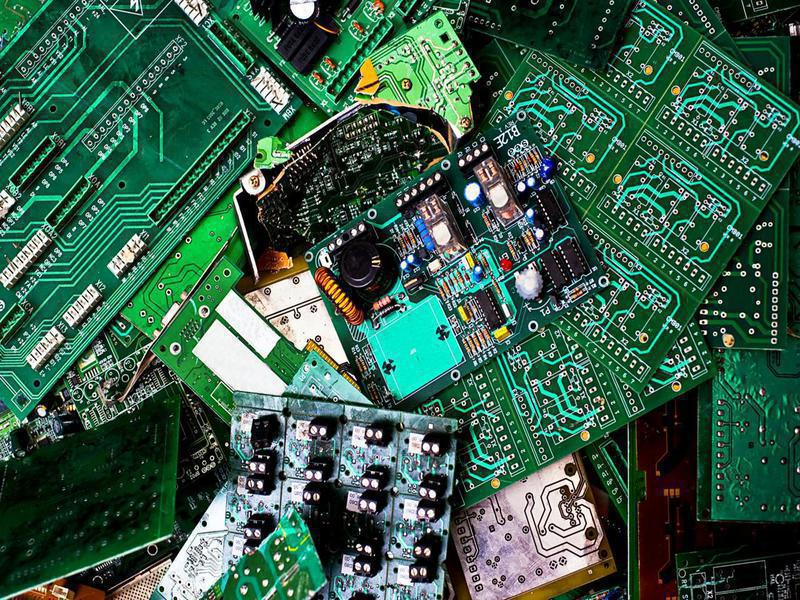circuit_board: (1, 1, 308, 417), (479, 3, 800, 399), (296, 119, 614, 414), (219, 389, 465, 600), (1, 394, 189, 600), (452, 455, 622, 600), (694, 327, 800, 537), (353, 8, 487, 138)
